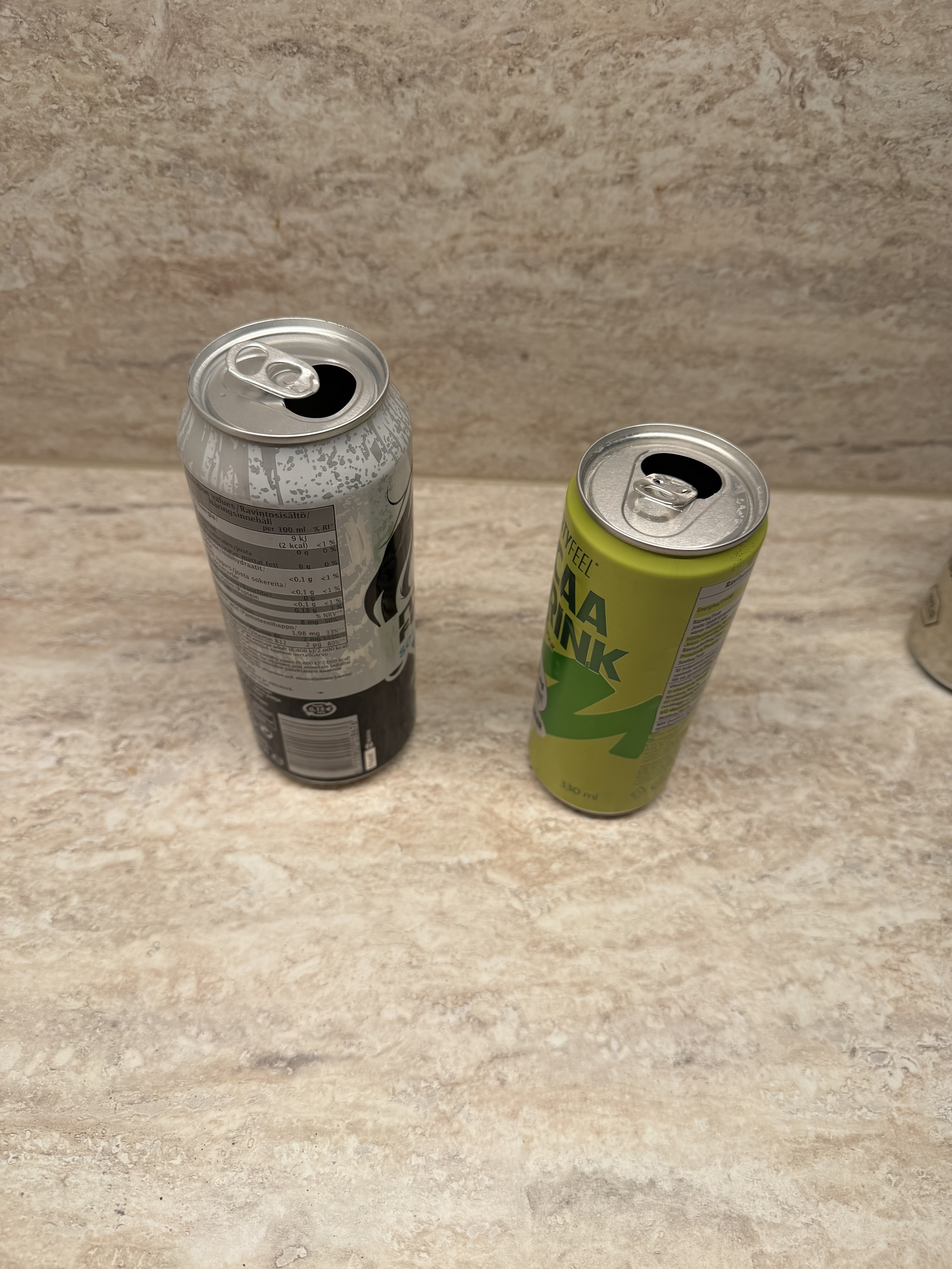Pantburk: (126, 318, 461, 814), (513, 411, 780, 834)
